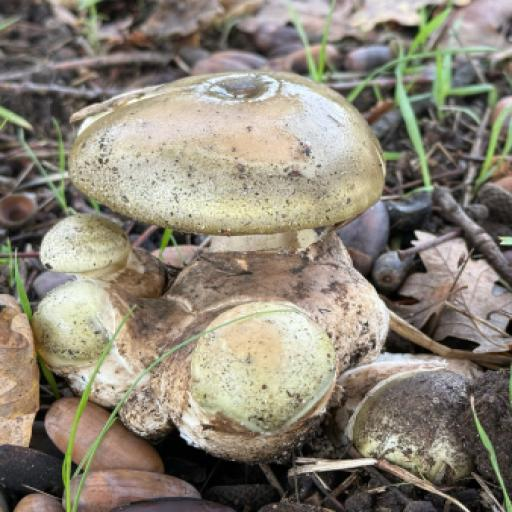Death Cap: (23, 45, 512, 490)
